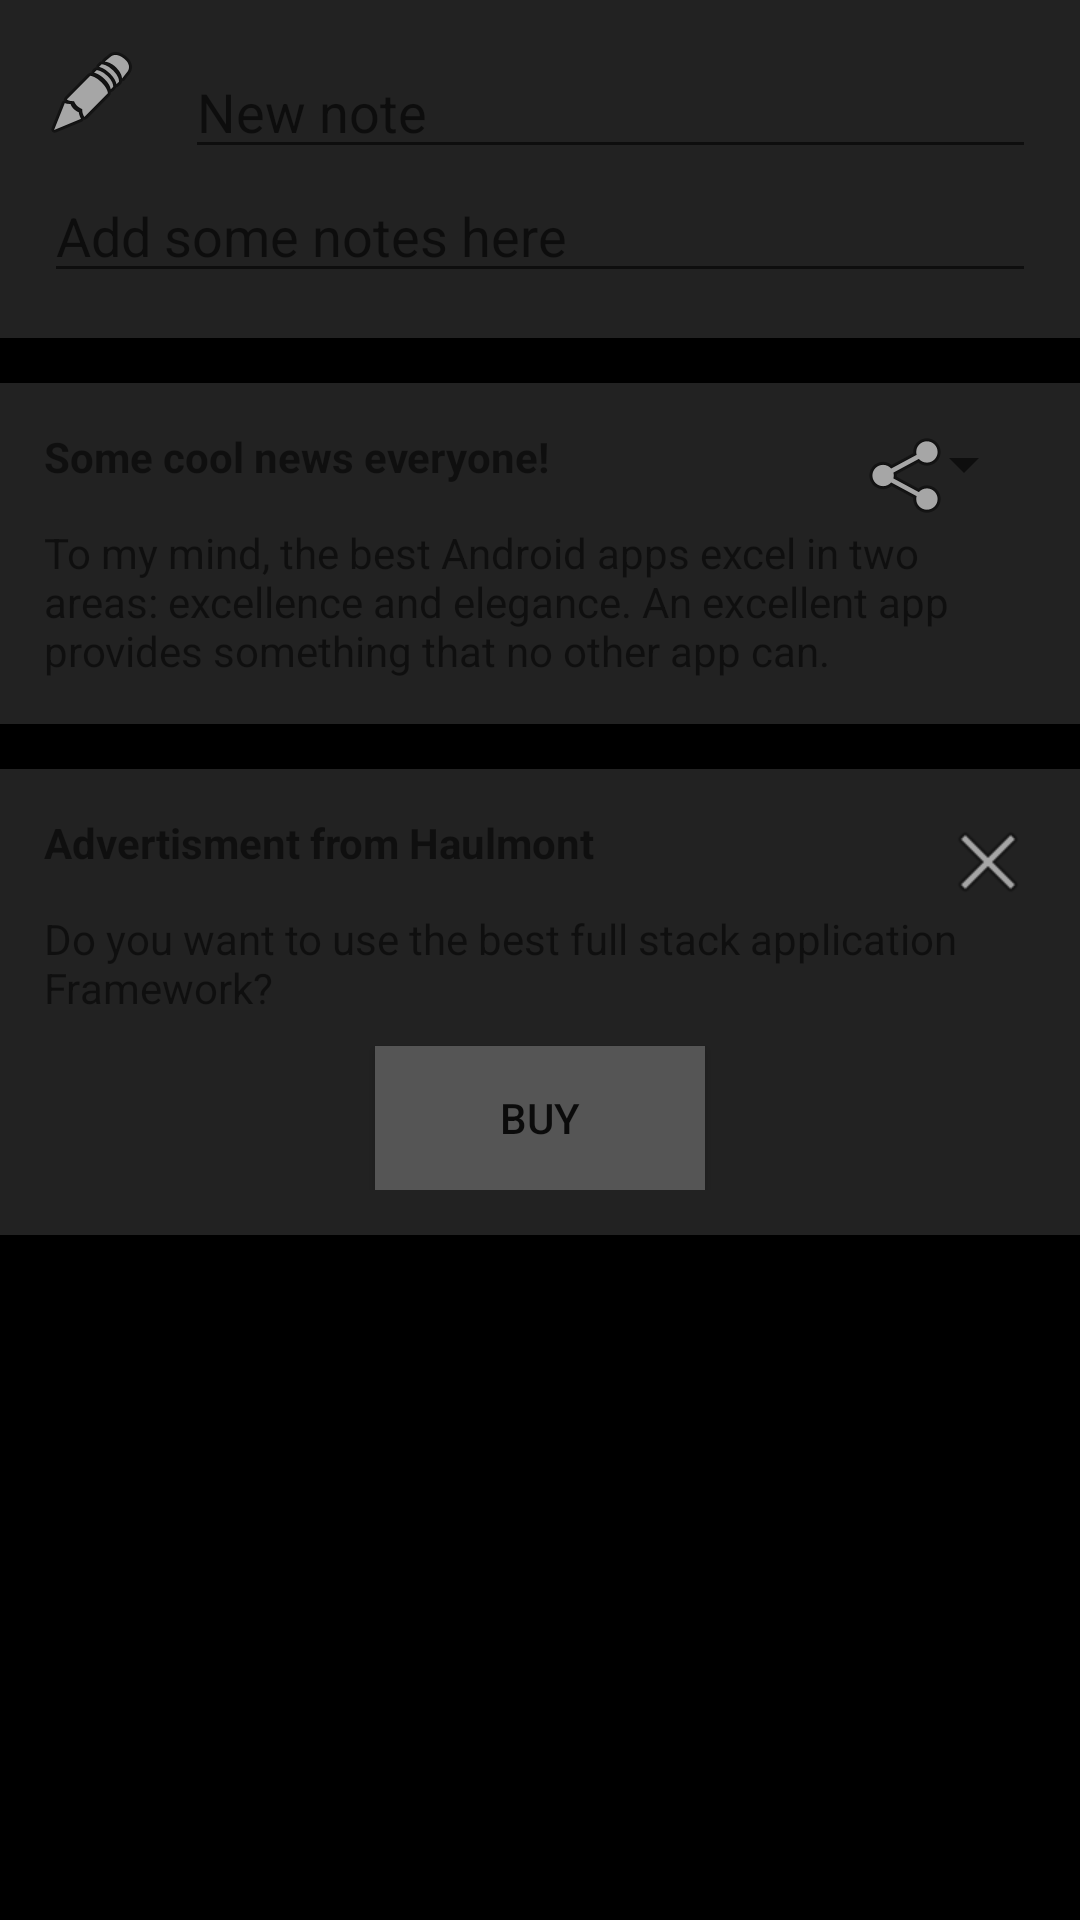

Where icons sit on this 1080 x 1920 app screen, as (x1, y1, x2, y2):
close clear cancel: (961, 835, 1015, 889)
edit: (54, 55, 129, 130)
share: (872, 441, 938, 510)
